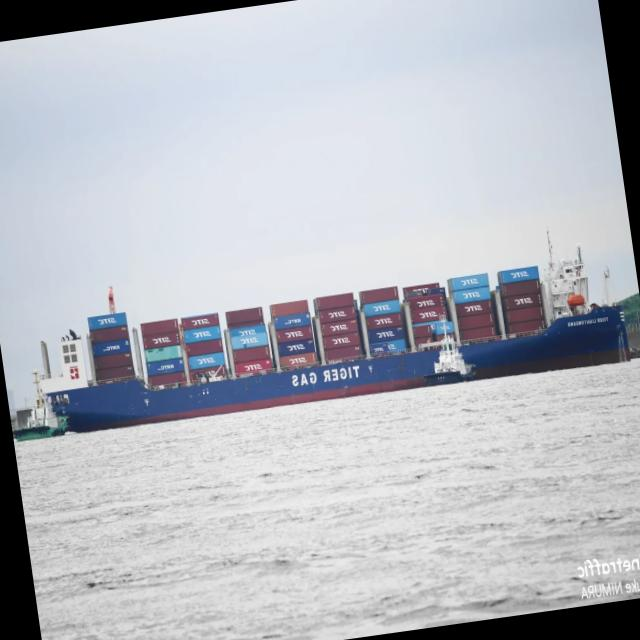Cargo: (42, 254, 630, 432)
Tug: (15, 370, 67, 441), (425, 315, 472, 385)
